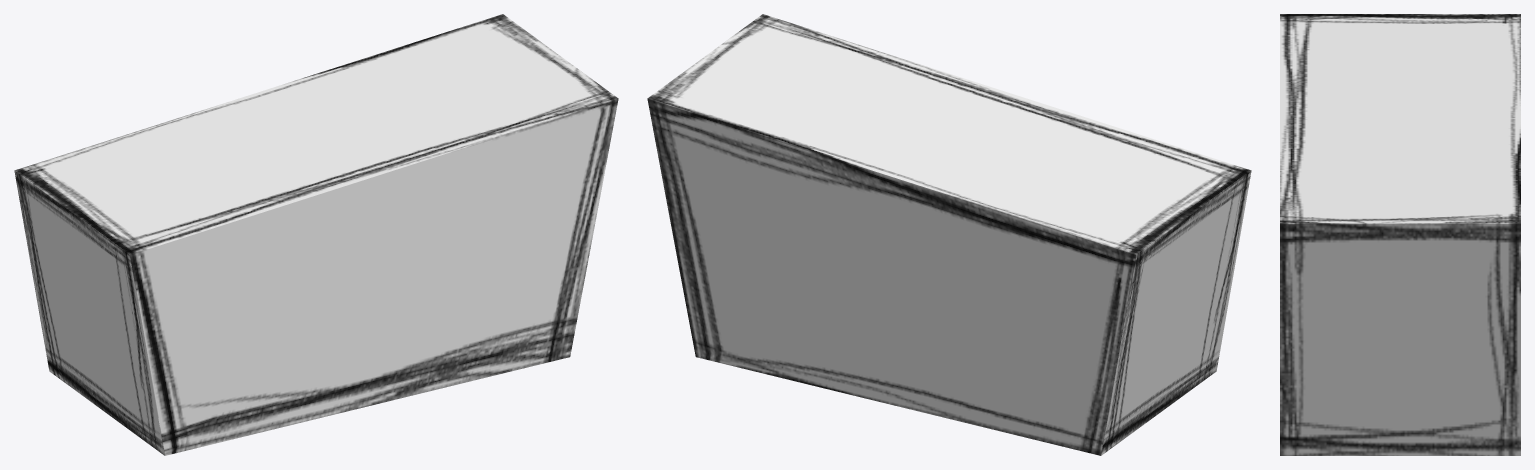
The model's file is commodezarb01.fbx.
3 renders of one model, left to right at view 1: azimuth 30°, elevation 25°; view 2: azimuth 150°, elevation 25°; view 3: azimuth 270°, elevation 25°, orthographic. The views are drawn at different scales.
Parts seen in each view (by area): view 1: Box002; view 2: Box002; view 3: Box002.
Boxes of the visible parts, left/top/right/bottom form: Box002: left=14, top=14, right=618, bottom=455; Box002: left=647, top=14, right=1251, bottom=455; Box002: left=1280, top=14, right=1520, bottom=455.
Size of the model in its own units: 122 by 58.89 by 50.
1 material, 1 textured.
